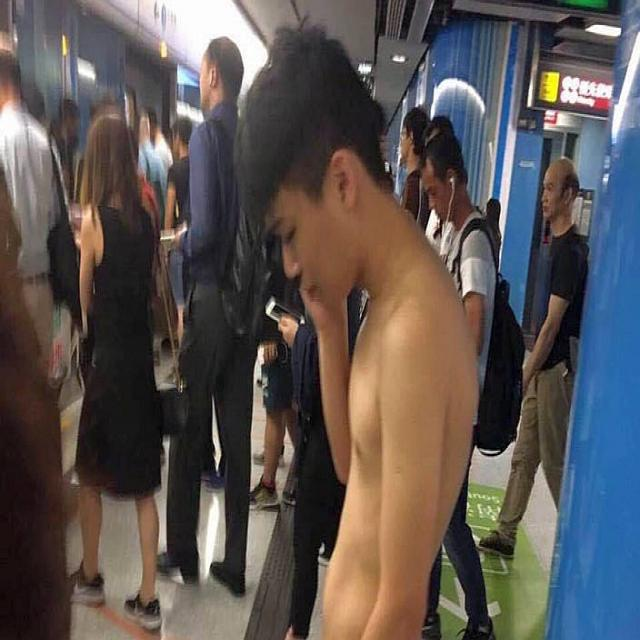body: (232, 18, 480, 640), (155, 35, 263, 598), (418, 131, 526, 640), (65, 110, 168, 633), (475, 154, 590, 561), (0, 151, 82, 640), (274, 288, 364, 639), (0, 46, 73, 381), (250, 274, 295, 512), (158, 116, 197, 350), (48, 86, 92, 227), (419, 113, 457, 256), (397, 106, 432, 224), (134, 107, 171, 213), (90, 82, 134, 127), (484, 193, 504, 263), (22, 77, 48, 114)
